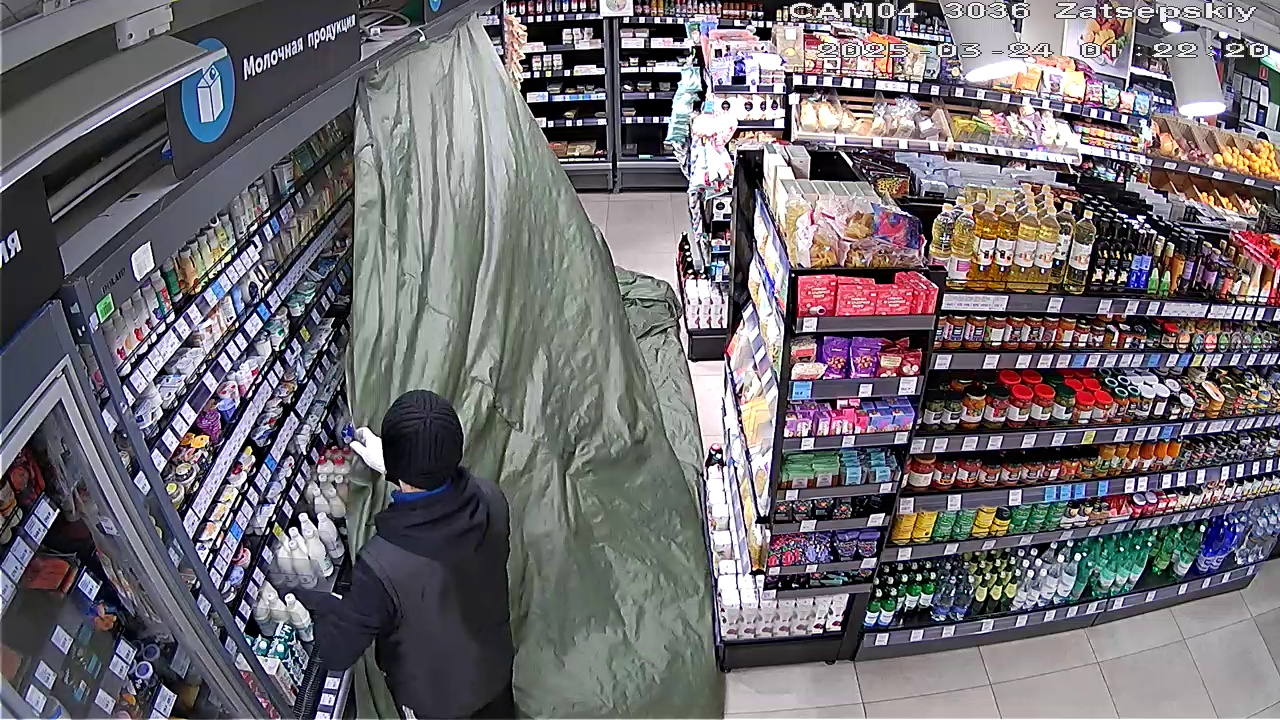Human: (269, 387, 513, 717)
dome: (347, 46, 726, 714)
